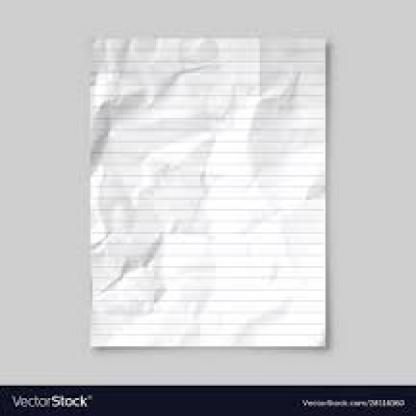paper: (87, 34, 329, 345)
